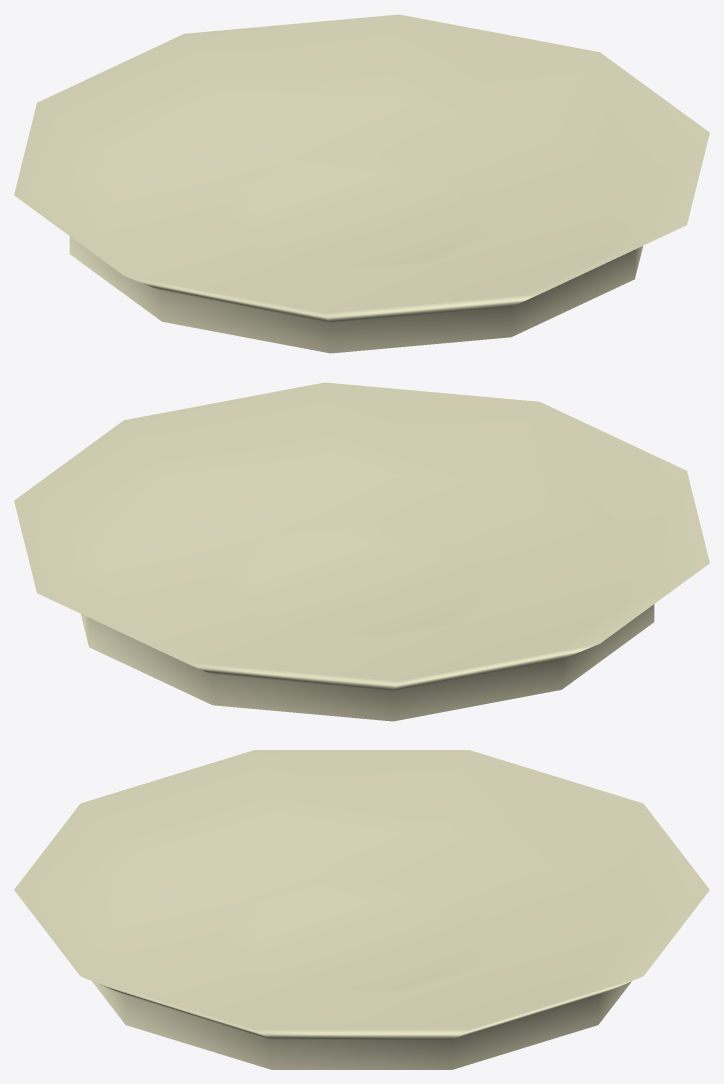
The model's file is Asset_plate.fbx.
3 views of the same model, one above another, from view 1: azimuth 30°, elevation 25°; view 2: azimuth 150°, elevation 25°; view 3: azimuth 270°, elevation 25° (orthographic). The views are drawn at different scales.
Visible parts, largest first — view 1: Cylinder.006; view 2: Cylinder.006; view 3: Cylinder.006.
Part boxes in pixels (bbox=[...]): Cylinder.006: bbox=[14, 14, 709, 353]; Cylinder.006: bbox=[14, 382, 709, 721]; Cylinder.006: bbox=[14, 750, 709, 1069].
Bounding box in the file's own units: 20.45 × 2.88 × 21.5.
